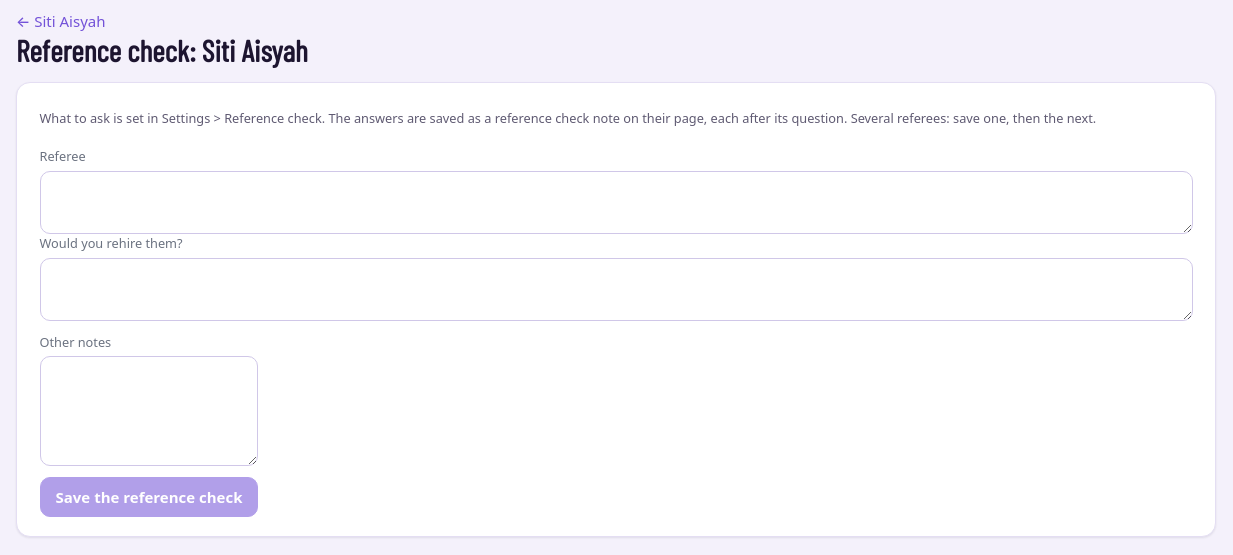
Test case: reference check › asks the company's questions and saves the answers as a reference check note
Step 1. Type "Ahmad, Finance Manager at Contoh" into the text box labelled "Referee" → (616, 203), box [40,171,1192,234]
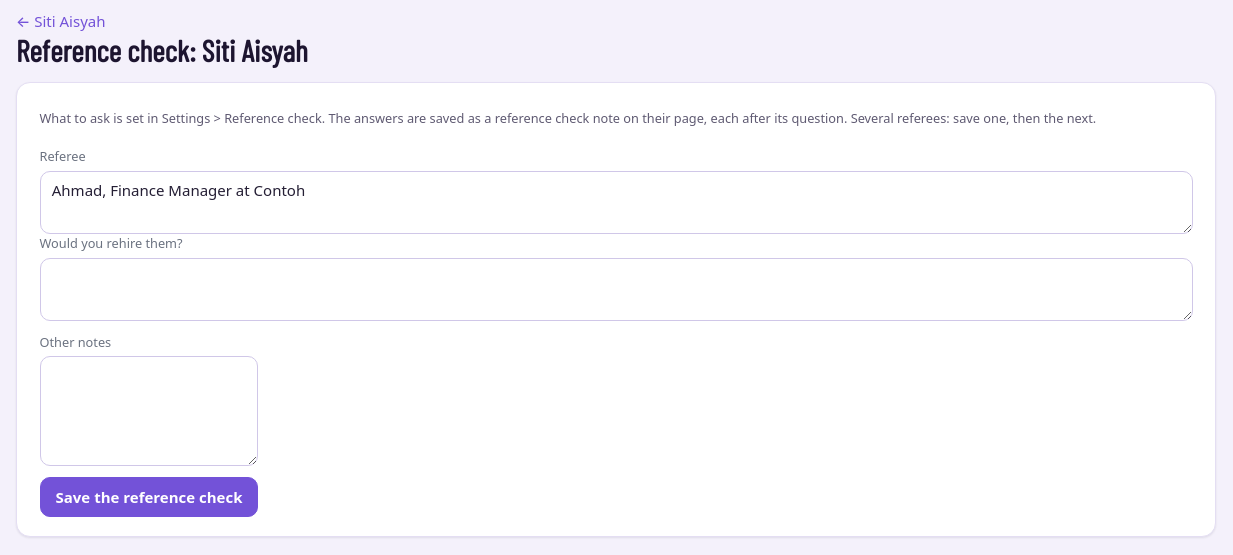
Step 2. Type "Yes, without a doubt" into the text box labelled "Would you rehire them?" → (616, 290), box [40,258,1192,321]
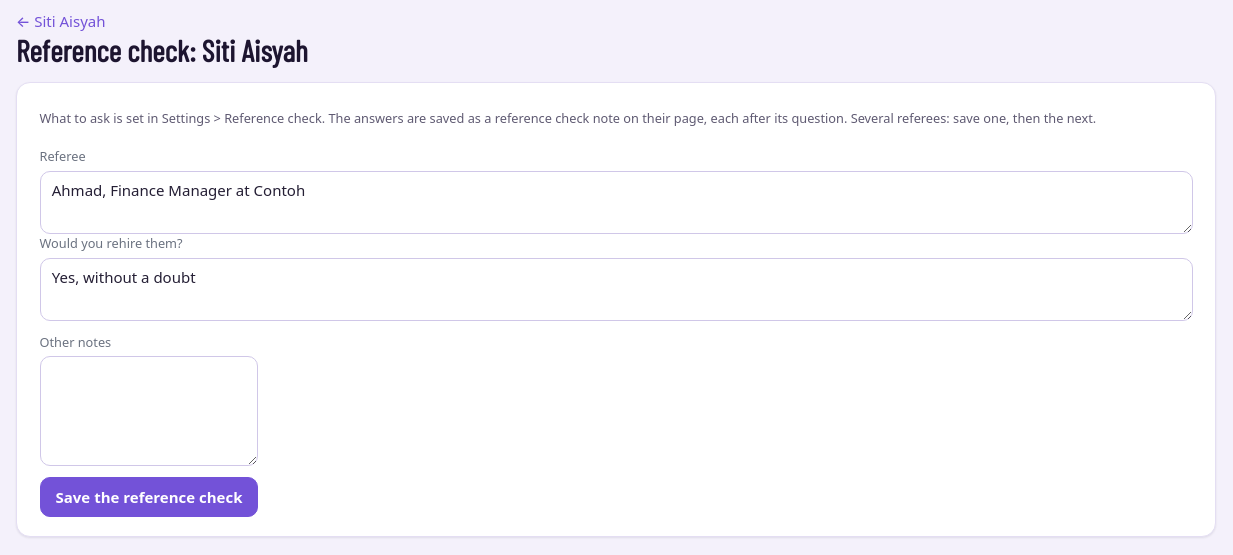
Step 3. Click the button "Save the reference check" → (149, 497), box [40,477,258,517]
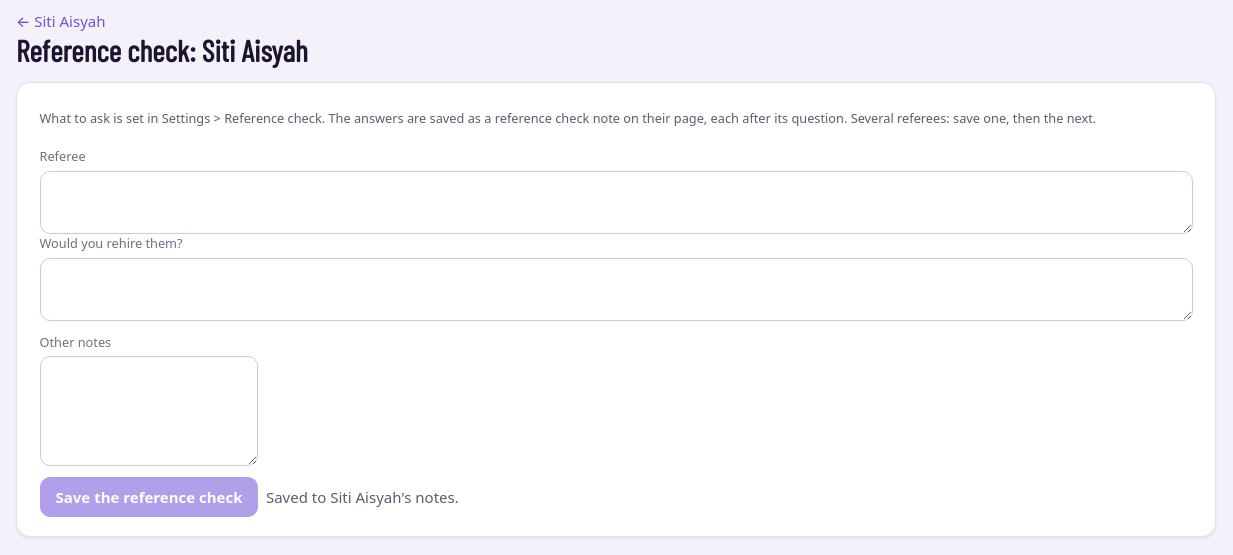
Result: the message shows "Saved" at [266,487,330,507]
